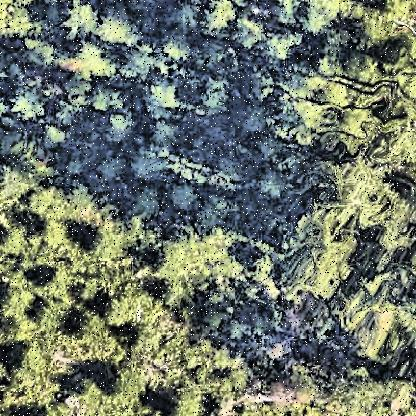tree-top: (277, 204, 360, 304), (340, 287, 412, 363), (89, 14, 136, 67), (7, 336, 54, 382), (75, 40, 119, 79), (198, 1, 240, 41), (107, 361, 146, 402), (98, 291, 140, 329), (300, 1, 366, 25), (85, 220, 124, 260), (197, 77, 235, 117), (1, 2, 43, 38), (62, 1, 100, 40), (97, 9, 137, 45), (15, 81, 49, 123), (33, 265, 69, 304), (169, 381, 209, 416), (243, 70, 278, 109), (68, 309, 108, 343), (2, 281, 38, 318), (41, 216, 77, 252), (147, 79, 184, 113), (260, 32, 294, 69), (167, 179, 203, 213), (199, 198, 229, 236), (151, 243, 183, 277), (149, 118, 179, 154), (236, 19, 268, 51), (93, 84, 123, 116), (164, 35, 196, 65), (1, 224, 27, 257), (31, 42, 60, 71), (380, 2, 416, 24), (43, 122, 73, 148)
